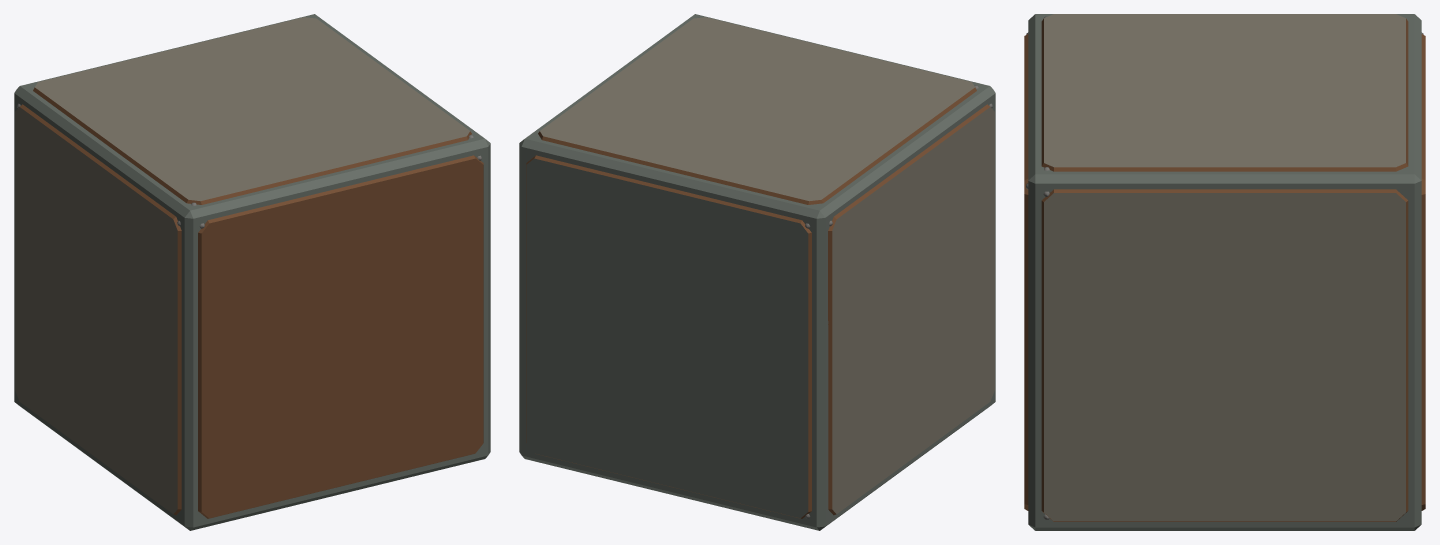
3 views of the same model, side by side, from view 1: azimuth 30°, elevation 25°; view 2: azimuth 150°, elevation 25°; view 3: azimuth 270°, elevation 25° (orthographic). The views are drawn at different scales.
Parts seen in each view (by area): view 1: R4B_Cube; view 2: R4B_Cube; view 3: R4B_Cube.
Part boxes in pixels (x1,y1,x2,y2): R4B_Cube: [14, 14, 490, 530]; R4B_Cube: [519, 14, 995, 530]; R4B_Cube: [1024, 14, 1425, 530].
Size of the model in its own units: 0.52 by 0.52 by 0.52.
